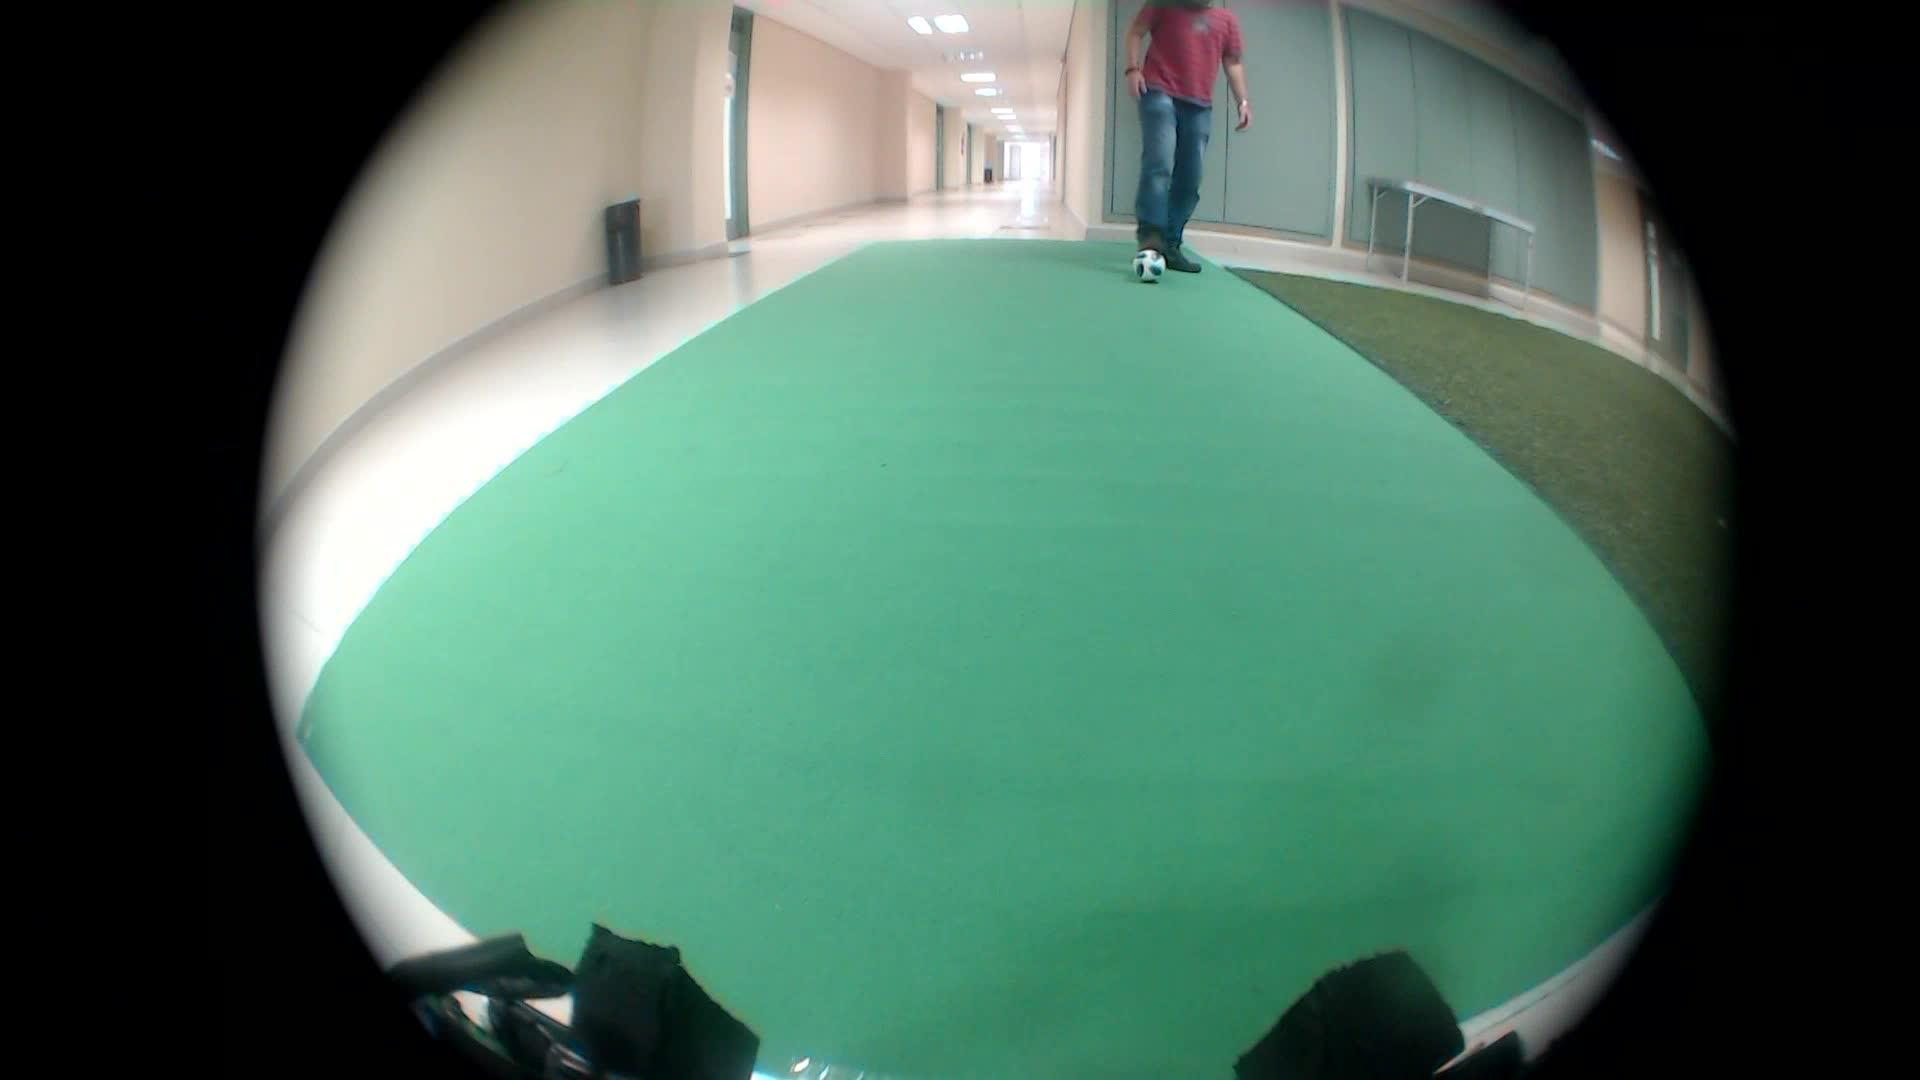ball: (1126, 248, 1166, 293)
